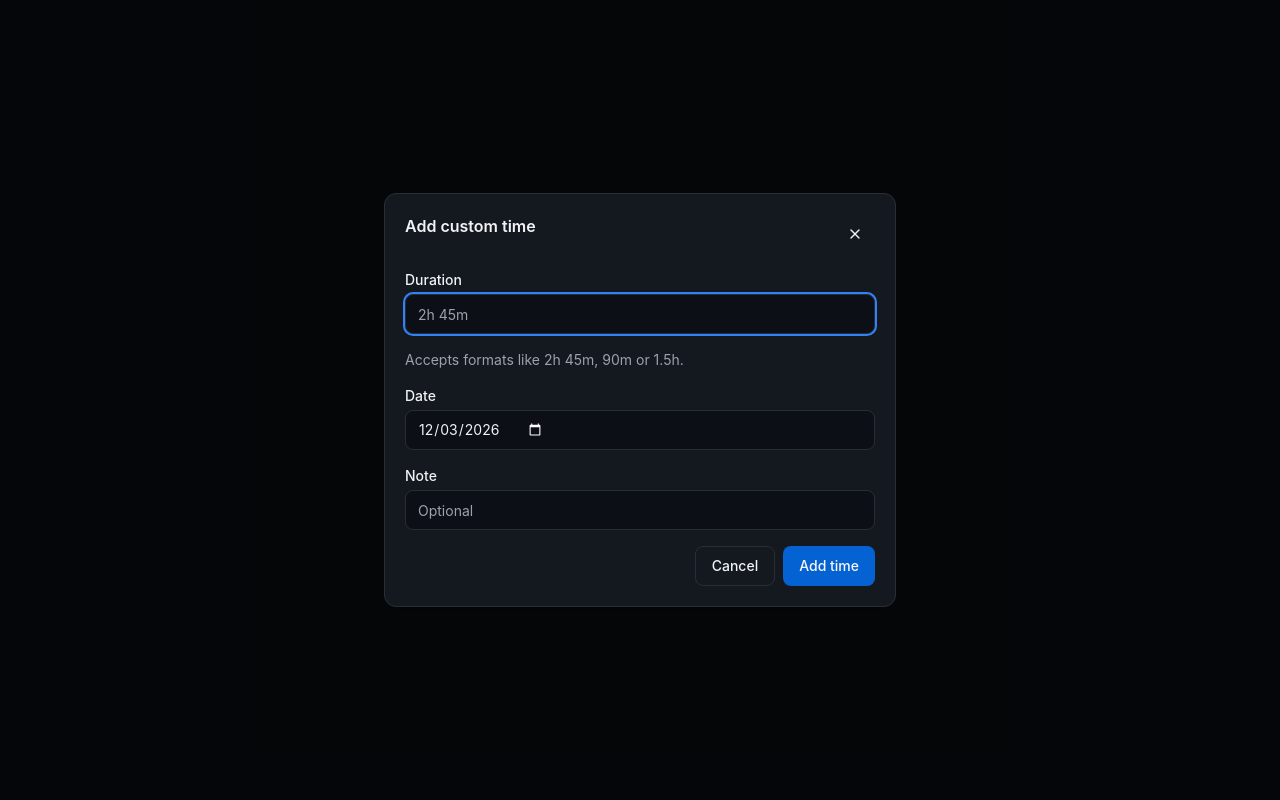
Test case: CustomDurationDialog › shows validation error for invalid duration
Type "xxx" into the field with placeholder "2h 45m" at x=640, y=314, box [405,294,875,334]
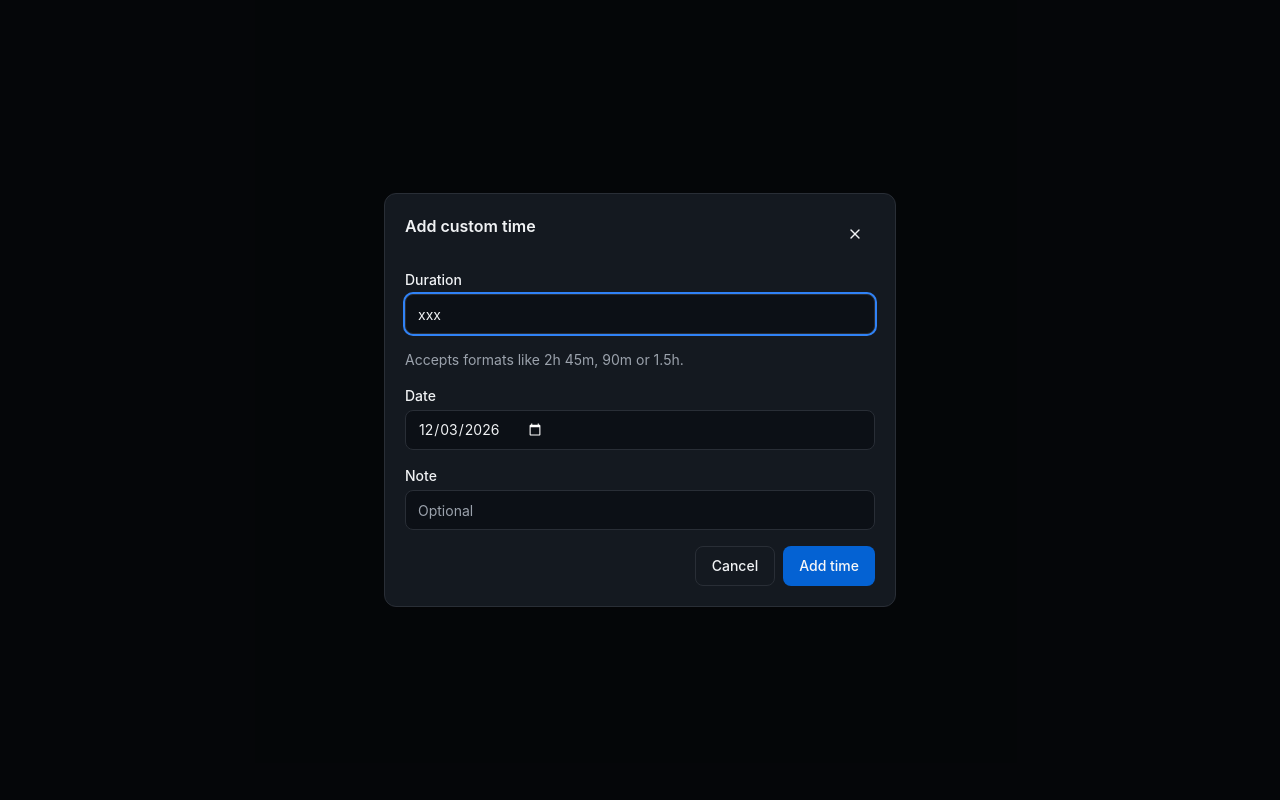
Click the button "Add time" at x=829, y=566, box [783,546,875,586]
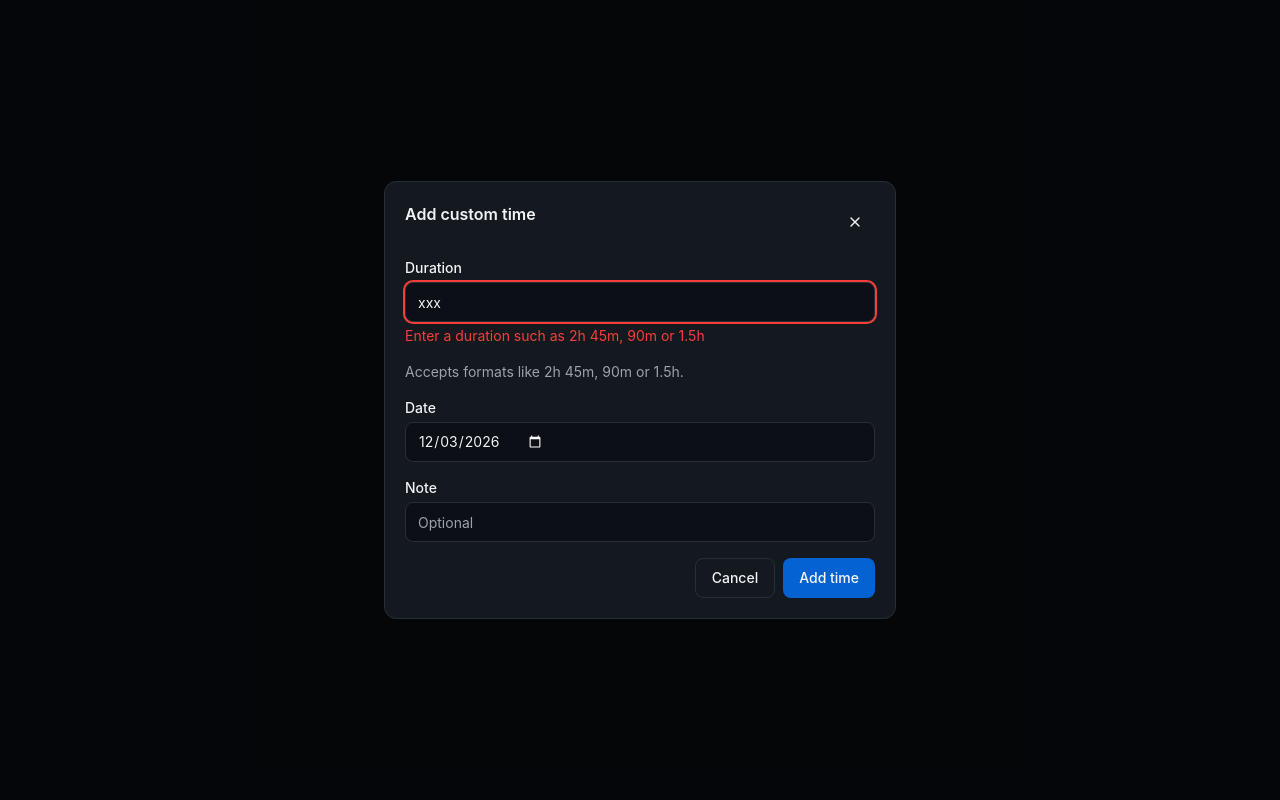
Check: the text "Enter a duration such as 2h 45m, 90m or 1.5h" is shown, box [405,327,705,344]
